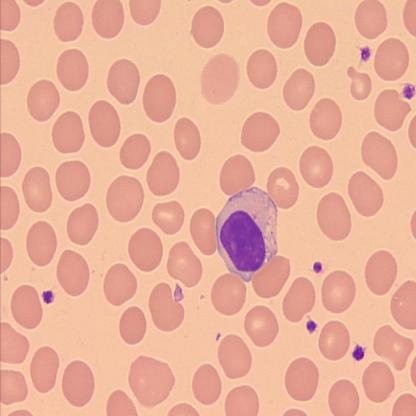Atypical lymphocyte: (216, 184, 280, 282)
